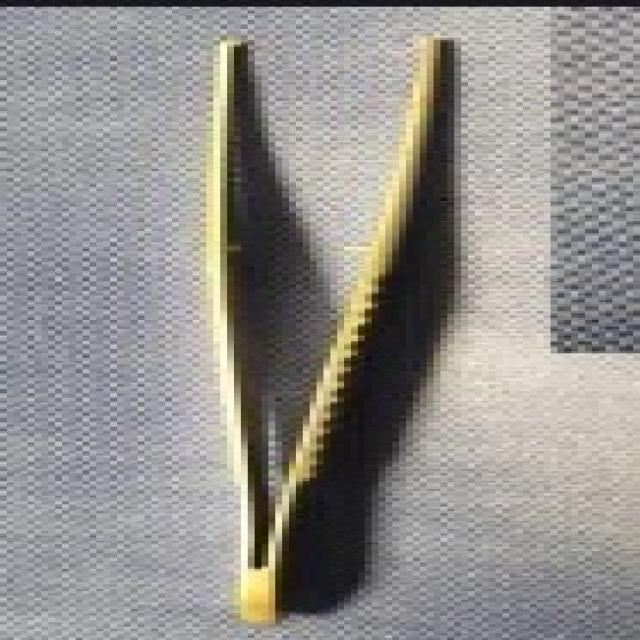Disscting Forceps -Plain-: (158, 29, 482, 622)
